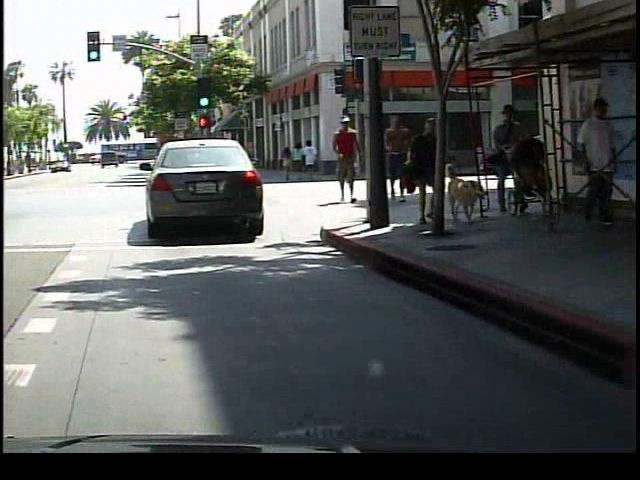person: (332, 112, 371, 207), (383, 109, 408, 205)
